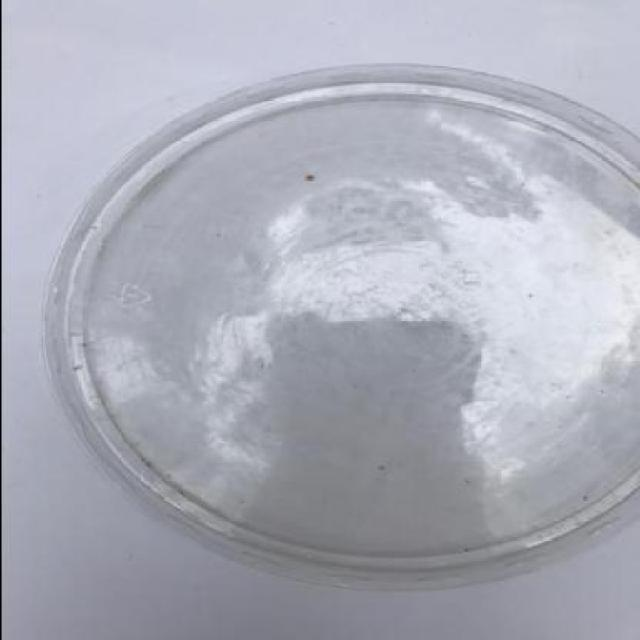PLASTIC: (37, 61, 638, 588)
